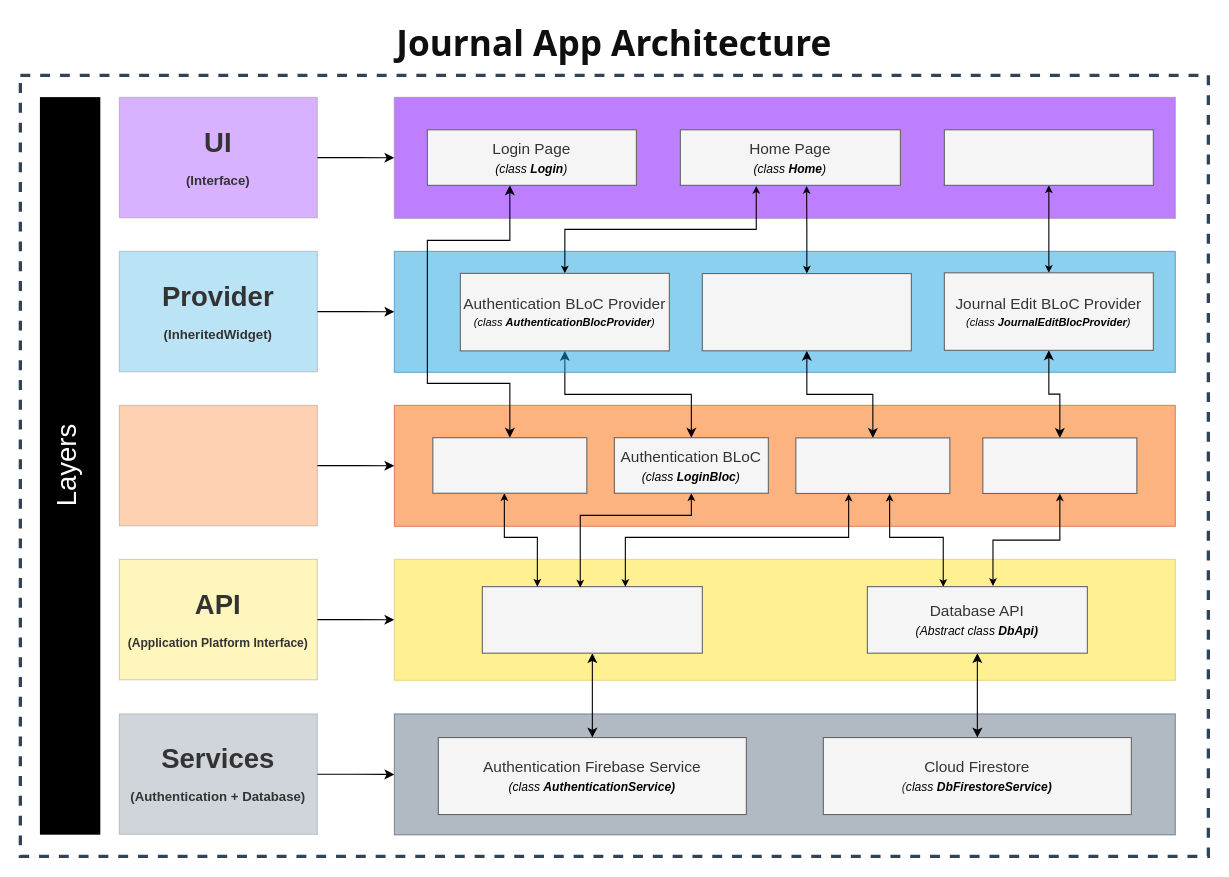
This 1229x877 diagram has some shape labels left out. Each missing label, with the centre of its shape:
"Authentication API (Abstract class AuthenticationApi)" belongs at point (591, 619).
"BLoC (Business Logic Component)" belongs at point (217, 465).
"Home BLoC (class LoginBloc )" belongs at point (872, 465).
"Home BLoC Provider (class HomeBlocProvider )" belongs at point (806, 311).
"Journal Edit BLoC (class LoginBloc )" belongs at point (1059, 465).
"Journal Edit Page (class EditEntry )" belongs at point (1048, 157).
"Login BLoC (class LoginBloc )" belongs at point (509, 465).
